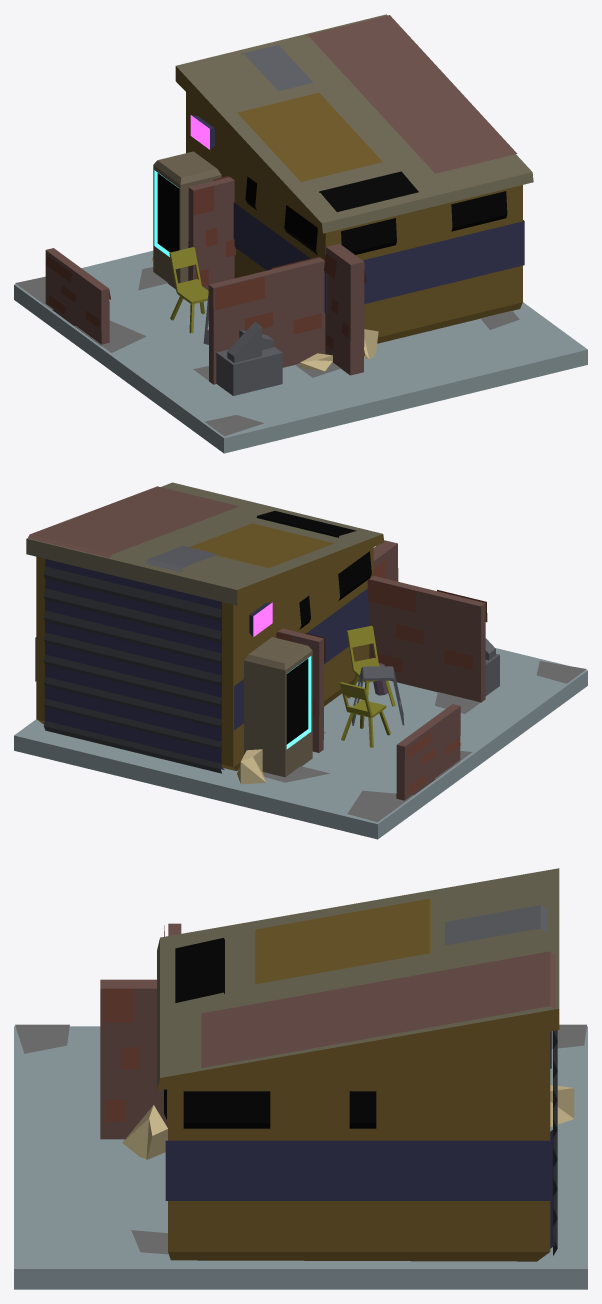
File: Slums3.fbx
The picture shows the model from 3 angles, top to bottom: view 1: azimuth 30°, elevation 25°; view 2: azimuth 150°, elevation 25°; view 3: azimuth 270°, elevation 25°; orthographic projection. The views are drawn at different scales.
Parts seen in each view (by area): view 1: Cube.690, Road.046; view 2: Cube.690, Road.046; view 3: Cube.690, Road.046.
Boxes of the visible parts, x1,y1,x2,y2 form: Cube.690: [15, 14, 533, 436]; Road.046: [14, 250, 587, 453]; Cube.690: [26, 482, 586, 822]; Road.046: [14, 648, 587, 839]; Cube.690: [15, 868, 586, 1261]; Road.046: [14, 1026, 587, 1289].
Size of the model in its own units: 200 by 109 by 200.
